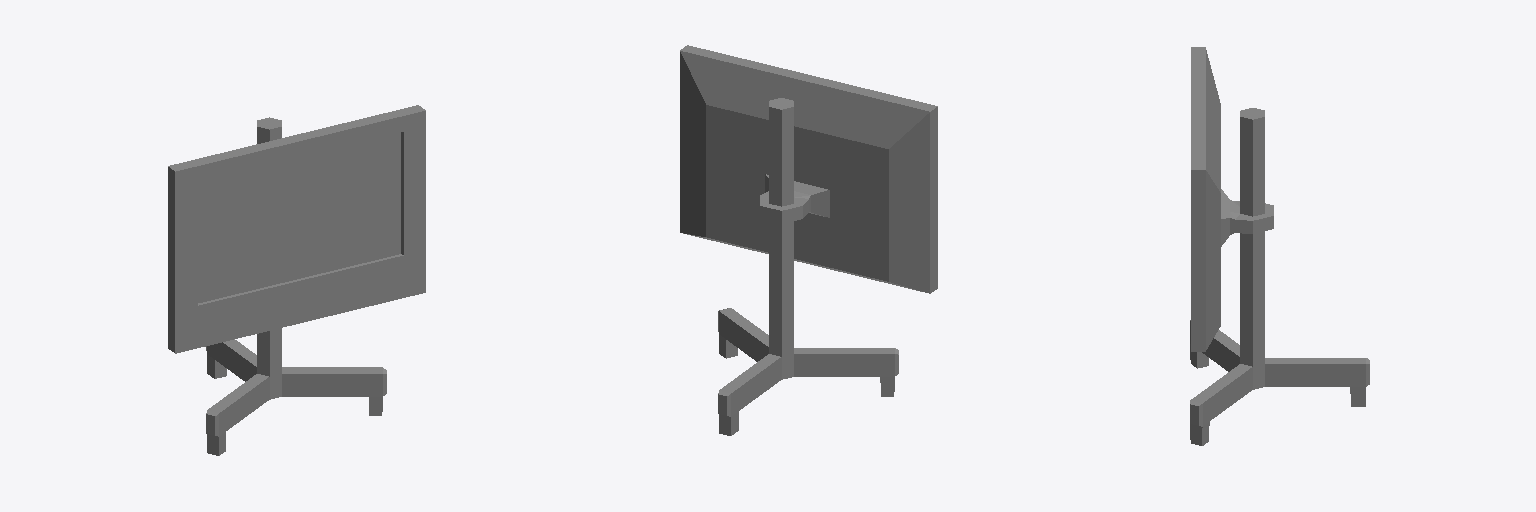
The model's file is TinyMonitor.obj.
3 views of the same model, side by side, from view 1: azimuth 30°, elevation 25°; view 2: azimuth 150°, elevation 25°; view 3: azimuth 270°, elevation 25° (orthographic).
Parts seen in each view (by area): view 1: Box003; view 2: Box003; view 3: Box003.
Part boxes in pixels (x1,y1,x2,y2): Box003: (168,105,425,455); Box003: (680,45,937,435); Box003: (1190,47,1369,445).
Bounding box in the file's own units: 71.99 × 81.04 × 44.88.